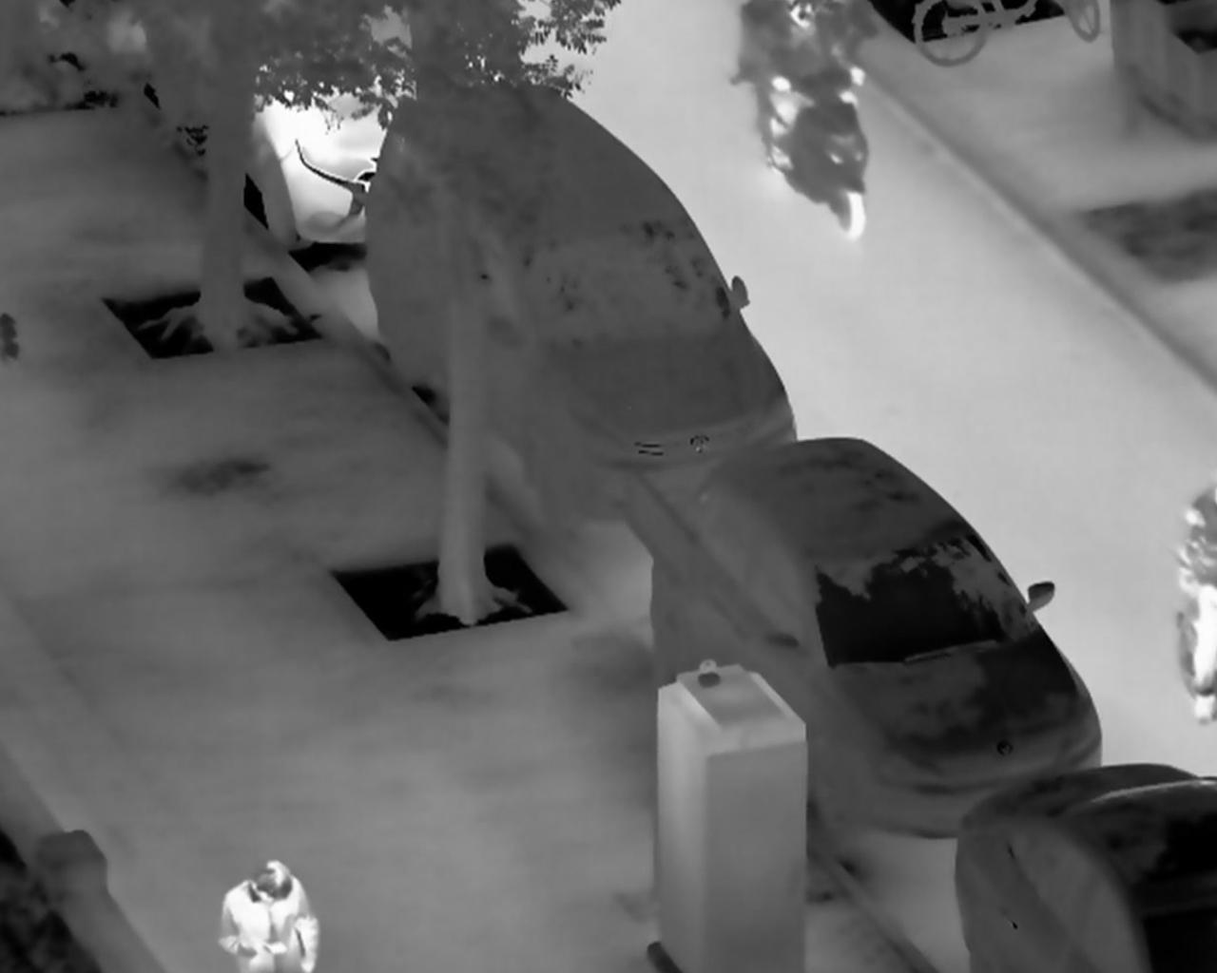person: (217, 859, 319, 973)
